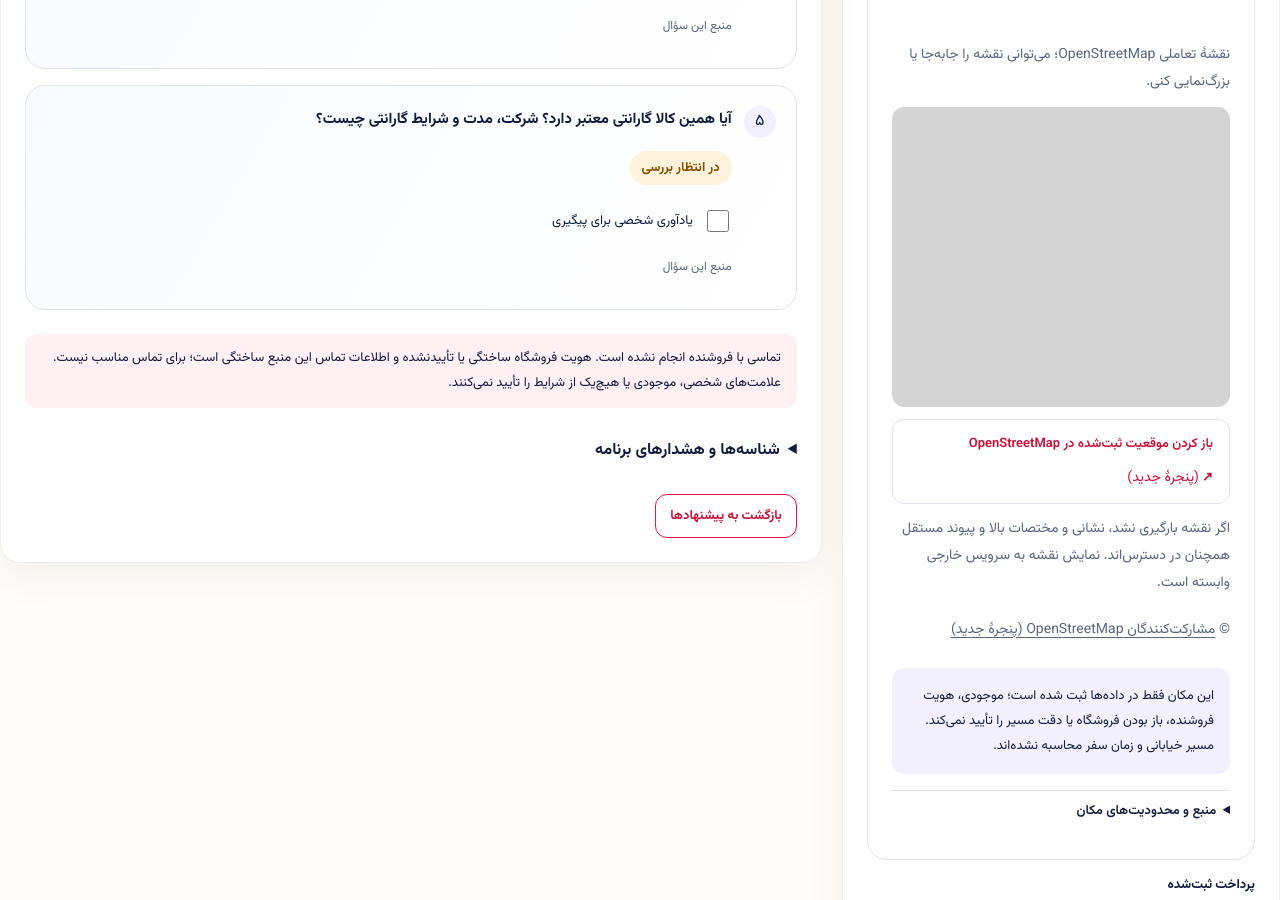
opens an alternative plan without accepting its criteria and exposes its own warnings
This screenshot has width=1280, height=900.
(page scrolled)
What coordinates should you click on to do the following:
click the heading "شناسه‌ها و هشدارهای برنامه"
I would click on:
 (687, 450)
Its box is [595,438,780,463].
(page scrolled)
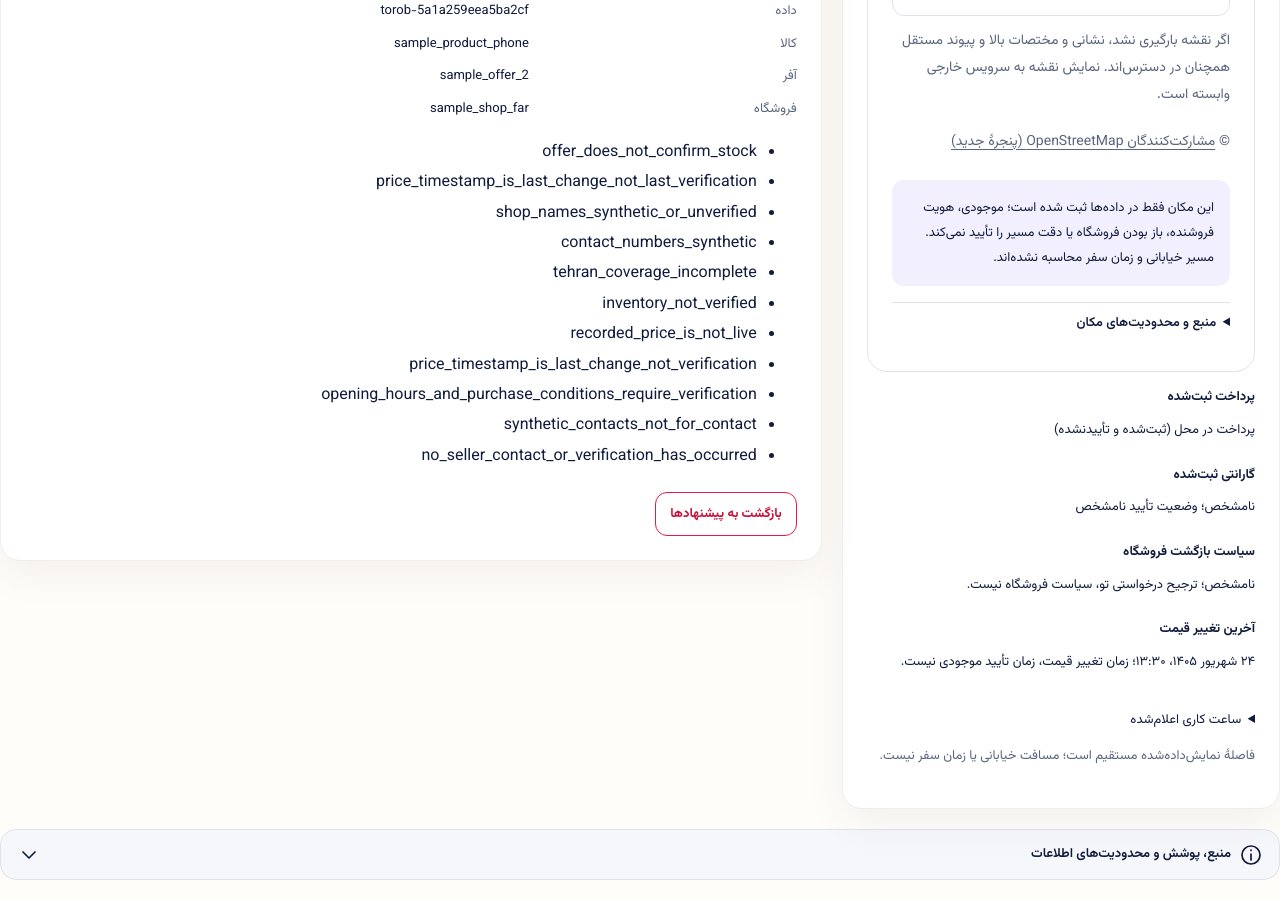
Expected: the list item "offer_does_not_confirm_stock" is shown, [542,140,757,165]
Expected: the list item "price_timestamp_is_last_change_not_last_verification" is shown, [376,170,757,195]
Expected: the list item "shop_names_synthetic_or_unverified" is shown, [496,201,757,226]
